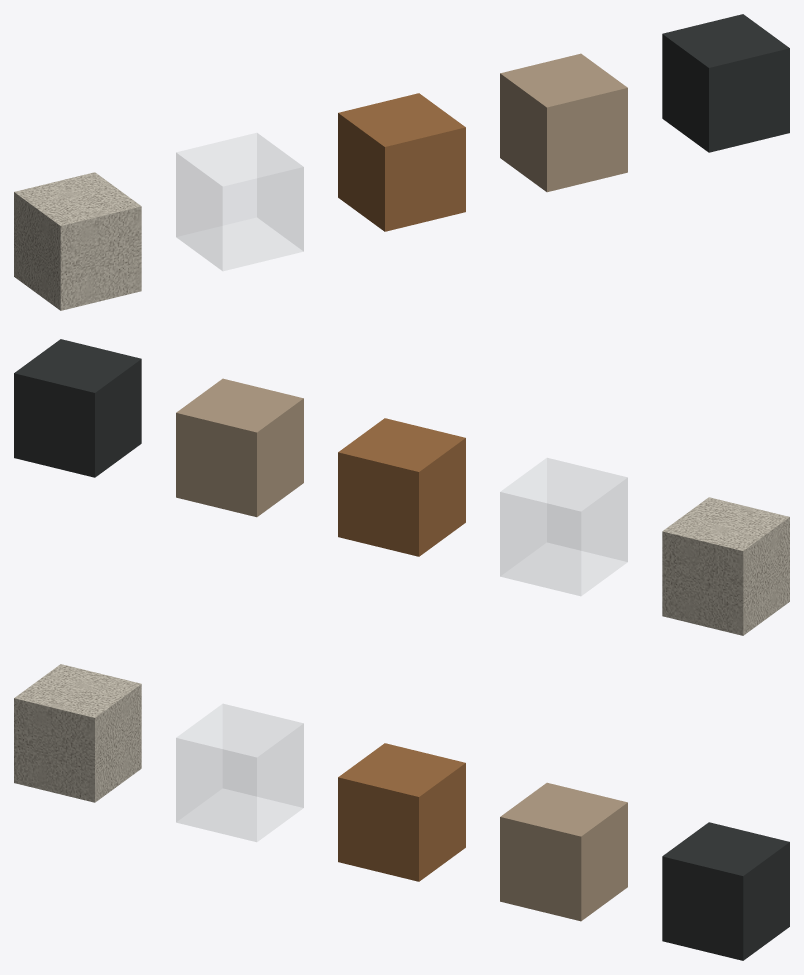
Rendered from pbr-transfer-probe.glb.
The picture shows the model from 3 angles, top to bottom: view 1: azimuth 30°, elevation 25°; view 2: azimuth 150°, elevation 25°; view 3: azimuth 330°, elevation 25°; orthographic projection.
Visible parts, largest first — view 1: material-probe:3, material-probe:0, material-probe:4, material-probe:2, material-probe:1; view 2: material-probe:3, material-probe:0, material-probe:4, material-probe:2, material-probe:1; view 3: material-probe:3, material-probe:0, material-probe:4, material-probe:2, material-probe:1.
Part boxes in pixels (x1,y1,x2,y2): material-probe:3: (500, 53, 627, 192); material-probe:0: (14, 172, 141, 310); material-probe:4: (662, 14, 789, 152); material-probe:2: (338, 93, 465, 231); material-probe:1: (176, 133, 303, 270); material-probe:3: (176, 378, 303, 517); material-probe:0: (662, 497, 789, 635); material-probe:4: (14, 339, 141, 477); material-probe:2: (338, 418, 465, 556); material-probe:1: (500, 458, 627, 595); material-probe:3: (500, 782, 627, 921); material-probe:0: (14, 664, 141, 802); material-probe:4: (662, 822, 789, 960); material-probe:2: (338, 743, 465, 881); material-probe:1: (176, 704, 303, 841).
Size of the model in its own units: 9 by 1 by 1.
5 materials, 1 textured.
